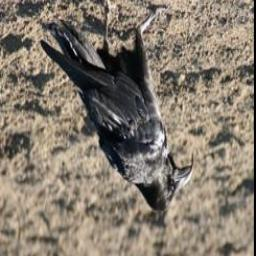Crow: (38, 0, 194, 216)
